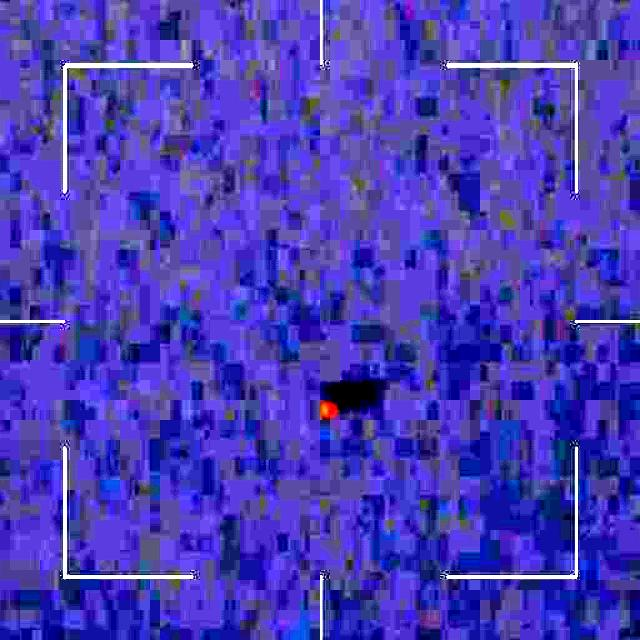bird: (315, 382, 349, 431)
